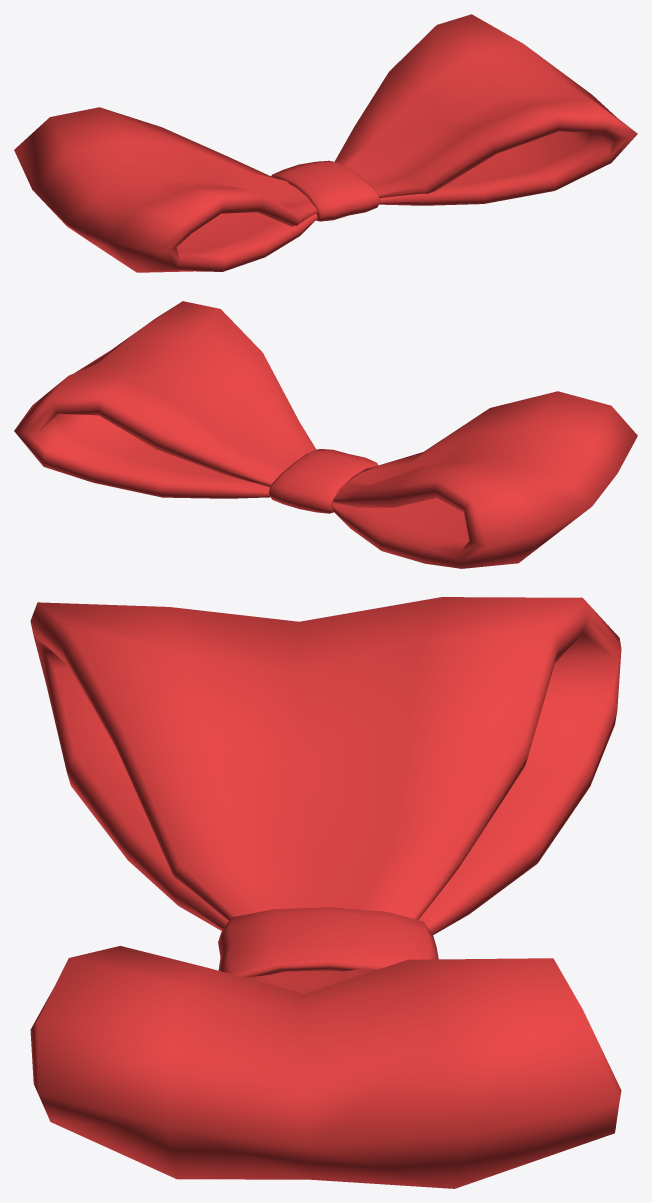
The model's file is bowtie.fbx.
The picture shows the model from 3 angles, top to bottom: view 1: azimuth 30°, elevation 25°; view 2: azimuth 150°, elevation 25°; view 3: azimuth 270°, elevation 25°; orthographic projection. The views are drawn at different scales.
Visible parts, largest first — view 1: bowtie; view 2: bowtie; view 3: bowtie.
Part boxes in pixels (x1,y1,x2,y2): bowtie: (14, 14, 637, 272); bowtie: (14, 301, 637, 568); bowtie: (30, 597, 621, 1188).
Size of the model in its own units: 10.33 by 1.89 by 5.02.
